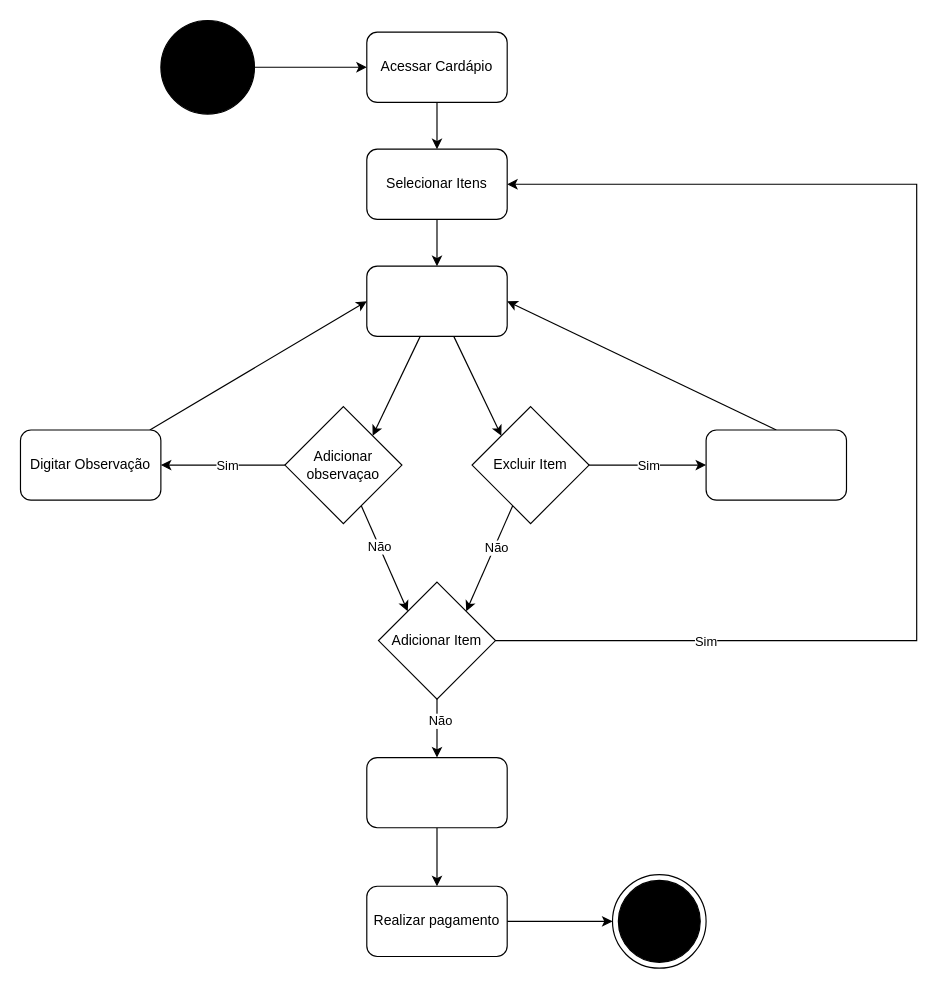
Some shapes in this 947 by 989 pixel diagram are drawn without their labels. The centre of each missing label's shape, as x and y in pixels:
Excluindo Item: point (775, 464)
Fechar pedido: point (436, 792)
Visualizar "carrinho": point (436, 300)
